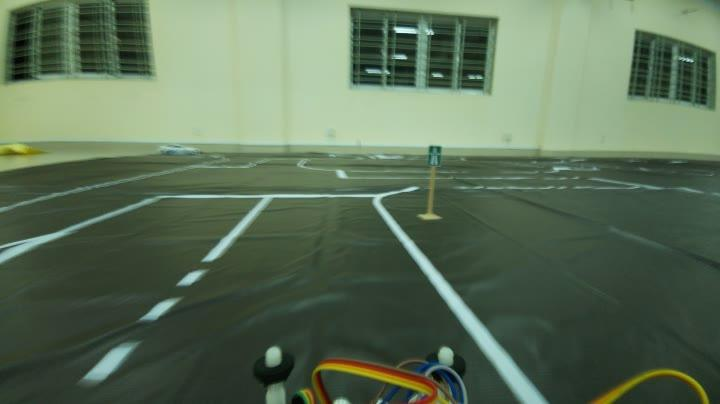highway_entry: (424, 140, 446, 170)
